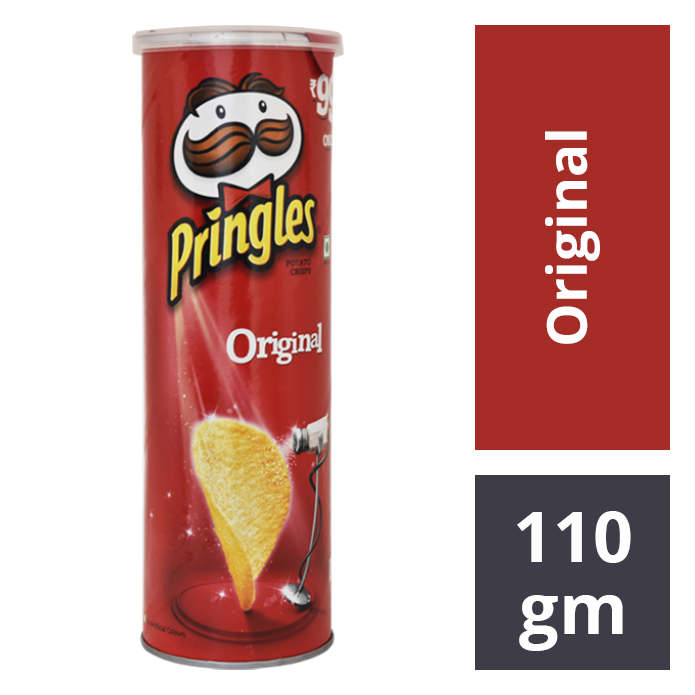pringle: (123, 25, 348, 672)
